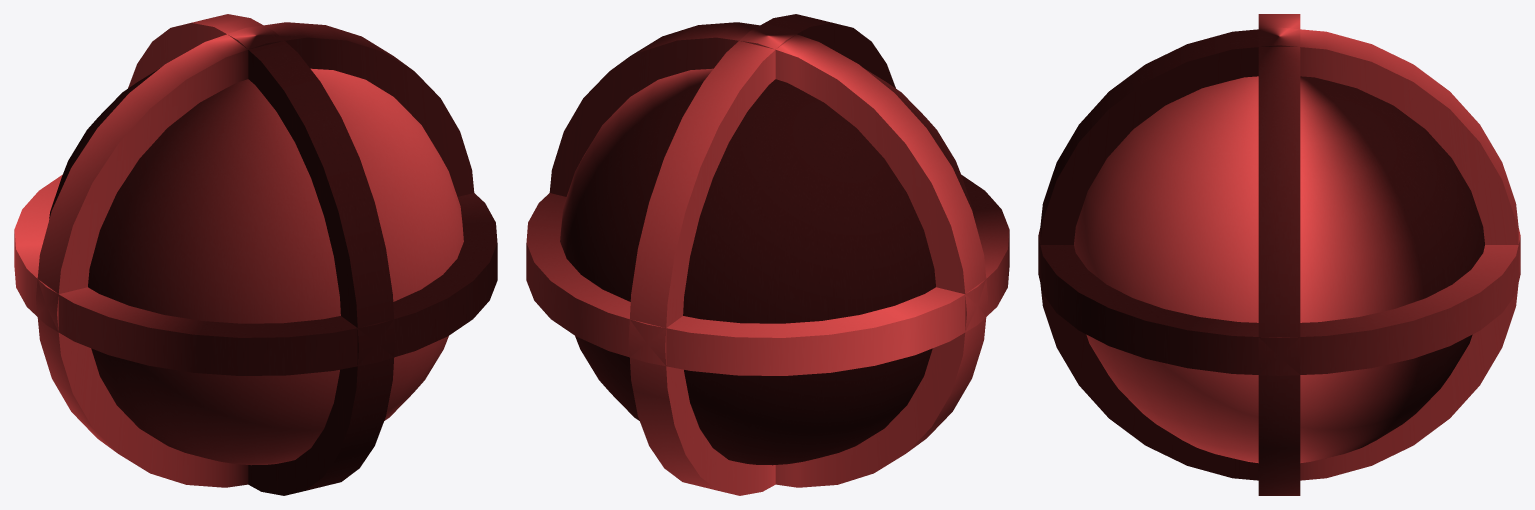
Rendered from Ball-22.dae.
3 renders of one model, left to right at view 1: azimuth 30°, elevation 25°; view 2: azimuth 150°, elevation 25°; view 3: azimuth 270°, elevation 25°, orthographic.
Parts seen in each view (by area): view 1: Ball; view 2: Ball; view 3: Ball.
Part boxes in pixels (left/top/right/bottom): Ball: left=14, top=14, right=497, bottom=495; Ball: left=526, top=14, right=1009, bottom=495; Ball: left=1038, top=14, right=1520, bottom=495.
Bounding box in the file's own units: 0.046 × 0.046 × 0.046.
2 materials, 2 textured.
